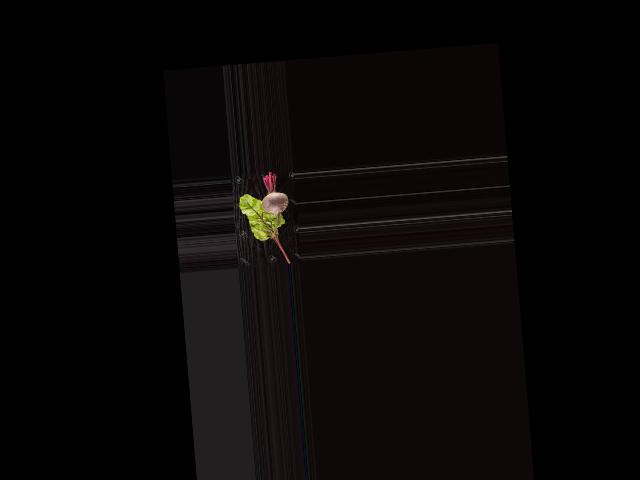beet: (259, 170, 291, 239)
